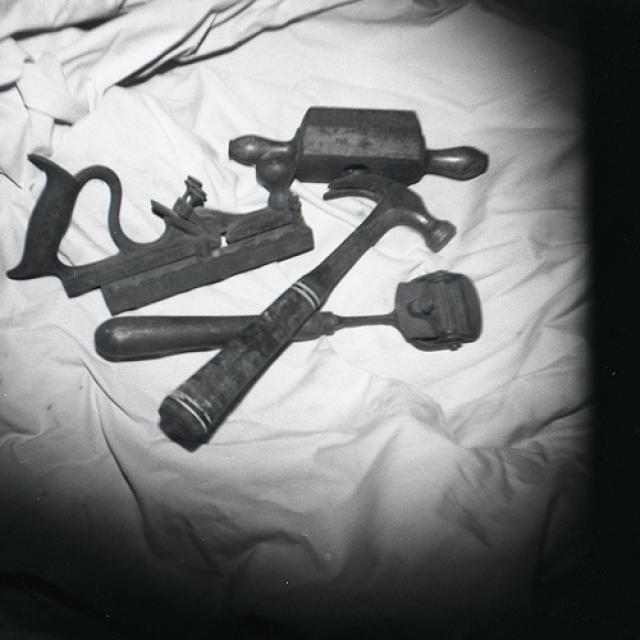hammer: (228, 168, 466, 366)
